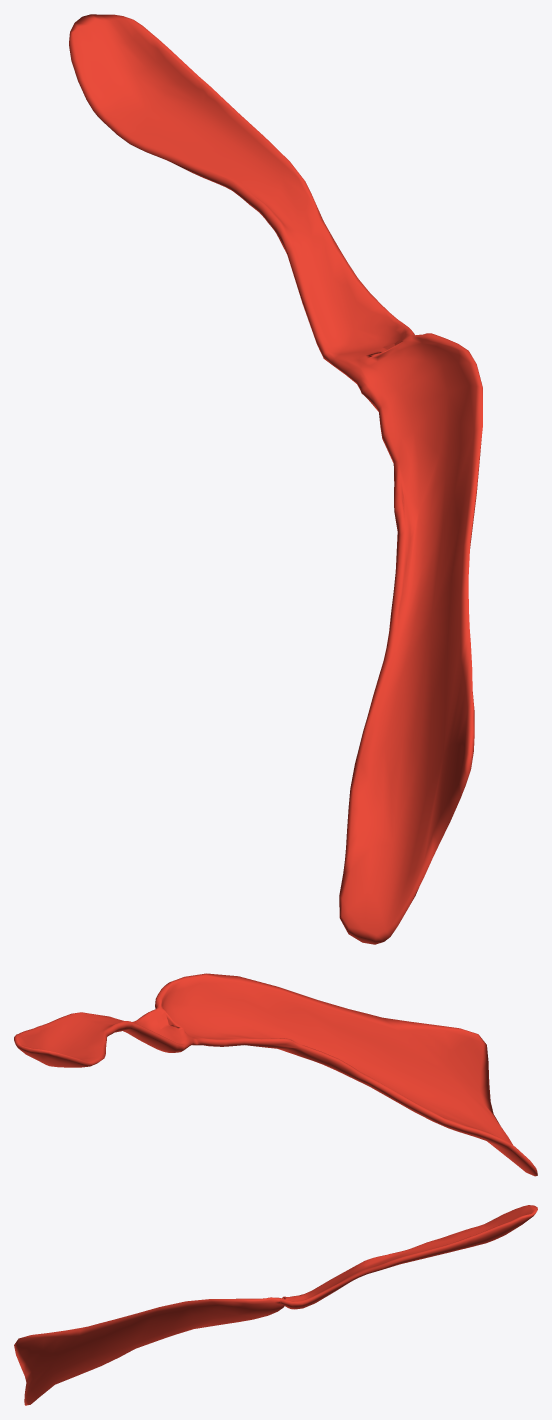
Rendered from Masseter_on_zygomatic_arch.l_Generated_Mesh_From_X3D.4520.glb.
3 renders of one model, top to bottom at view 1: azimuth 30°, elevation 25°; view 2: azimuth 150°, elevation 25°; view 3: azimuth 270°, elevation 25°, orthographic. The views are drawn at different scales.
Visible parts, largest first — view 1: Masseter_on_zygomatic_arch.l_Generated_Mesh_From_X3D.4520; view 2: Masseter_on_zygomatic_arch.l_Generated_Mesh_From_X3D.4520; view 3: Masseter_on_zygomatic_arch.l_Generated_Mesh_From_X3D.4520.
Boxes of the visible parts, box(x1,y1,x2,y2) form: Masseter_on_zygomatic_arch.l_Generated_Mesh_From_X3D.4520: box(69, 14, 482, 944); Masseter_on_zygomatic_arch.l_Generated_Mesh_From_X3D.4520: box(14, 973, 537, 1176); Masseter_on_zygomatic_arch.l_Generated_Mesh_From_X3D.4520: box(14, 1205, 537, 1405).
Bounding box in the file's own units: 0.0169 × 0.0244 × 0.0462.
